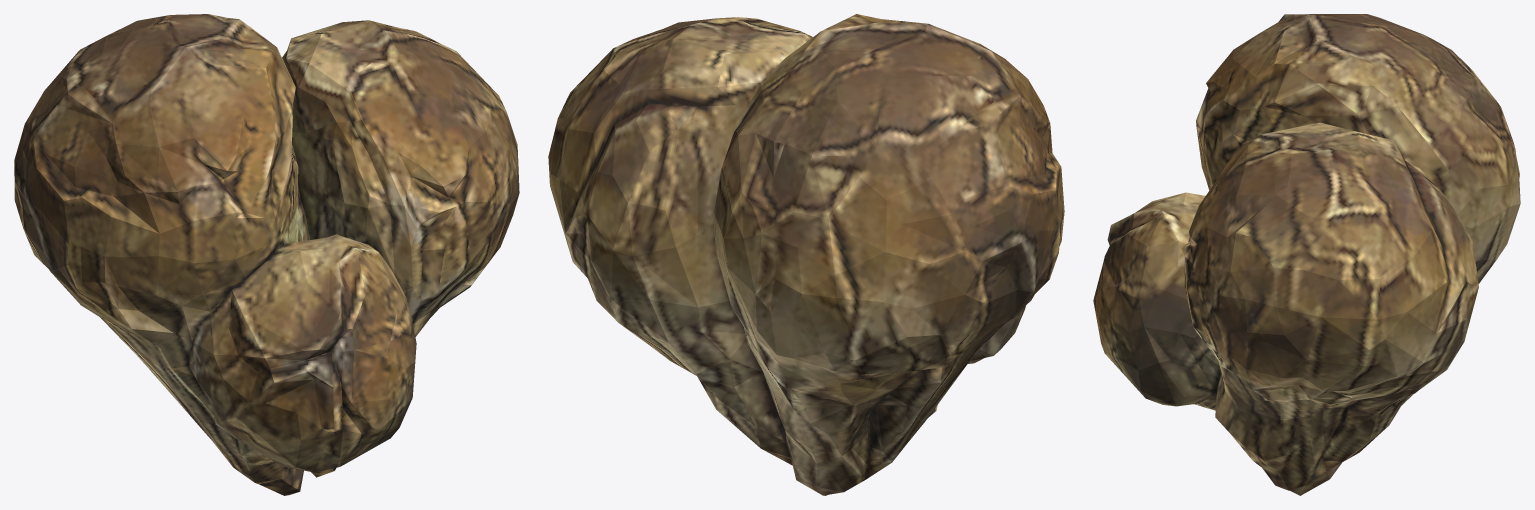
The model's file is P_Jituigu_04.obj.
The picture shows the model from 3 angles, left to right: view 1: azimuth 30°, elevation 25°; view 2: azimuth 150°, elevation 25°; view 3: azimuth 270°, elevation 25°; orthographic projection. The views are drawn at different scales.
Bounding box in the file's own units: 0.2927 × 0.2901 × 0.2577.
Materials: 1 (1 with a texture image).
